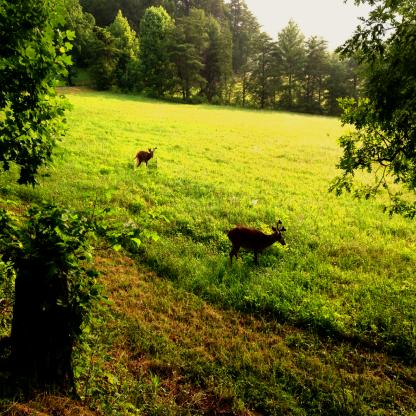Deer: (223, 219, 286, 270), (134, 146, 157, 171)
